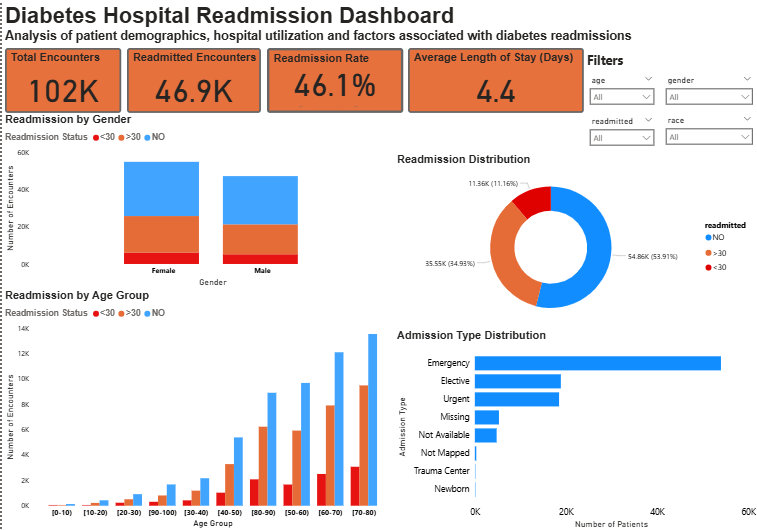

The dashboard page shown, as its layout file describes it:
{"tool":"powerbi","page":{"name":"Overview","canvas":[1283,900],"ordinal":0},"visuals":[{"type":"textbox","box":[0,0,1255.9,81.4],"z":0},{"type":"card","title":"Total Encounters","fields":{"Values":["Diabetes_readmission_clean.Total Patients"]},"box":[5.1,81.4,196.6,110.2],"z":1000},{"type":"card","title":"Average Length of Stay (Days)","fields":{"Values":["Diabetes_readmission_clean.Average Hospital Stay"]},"box":[688.1,81.4,298.3,110.2],"z":2000},{"type":"card","title":"Readmission Rate","fields":{"Values":["AdmissionSourceLookup.Readmission Rate"]},"box":[449.2,81.4,230.5,110.2],"z":3000},{"type":"card","title":"Readmitted Encounters","fields":{"Values":["Diabetes_readmission_clean.Readmitted Patients"]},"box":[211.9,81.4,227.1,110.2],"z":4000},{"type":"donutChart","title":"Readmission Distribution","fields":{"Category":["Diabetes_readmission_clean.readmitted"],"Y":["CountNonNull(Diabetes_readmission_clean.encounter_id)"]},"box":[664.3,258.6,618.6,298.6],"z":5000},{"type":"clusteredColumnChart","title":"Readmission by Age Group","fields":{"Category":["Diabetes_readmission_clean.age"],"Series":["Diabetes_readmission_clean.readmitted"],"Y":["Count(Diabetes_readmission_clean.encounter_id)"]},"box":[0,490,664.3,410],"z":6000},{"type":"columnChart","title":"Readmission by Gender","fields":{"Y":["Count(Diabetes_readmission_clean.encounter_id)"],"Series":["Diabetes_readmission_clean.readmitted"],"Category":["Diabetes_readmission_clean.gender"]},"box":[0,191.4,664.3,298.6],"z":7000},{"type":"clusteredBarChart","title":"Admission Type Distribution","fields":{"Category":["AdmissionTypeLookup.Admission Type"],"Y":["CountNonNull(Diabetes_readmission_clean.encounter_id)"]},"box":[664.3,557.1,618.6,342.9],"z":9000},{"type":"slicer","fields":{"Values":["Diabetes_readmission_clean.gender"]},"box":[1115.7,122.9,167.1,67.1],"z":10000},{"type":"slicer","fields":{"Values":["Diabetes_readmission_clean.age"]},"box":[987.1,122.9,128.6,68.6],"z":11000},{"type":"slicer","fields":{"Values":["Diabetes_readmission_clean.race"]},"box":[1115.7,190,167.1,68.6],"z":12000},{"type":"slicer","fields":{"Values":["Diabetes_readmission_clean.readmitted"]},"box":[987.1,191.4,128.6,67.1],"z":13000},{"type":"textbox","box":[987.1,81.4,295.7,41.4],"z":14000}]}

Visuals, with their boxes in screenshot pixels (x1, y1, x2, y2), scaled from the page's 1283x900 canvas onto the 757x530 screenshot:
textbox: (left=0, top=0, right=741, bottom=48)
"Total Encounters" card: (left=3, top=48, right=119, bottom=113)
"Average Length of Stay (Days)" card: (left=406, top=48, right=582, bottom=113)
"Readmission Rate" card: (left=265, top=48, right=401, bottom=113)
"Readmitted Encounters" card: (left=125, top=48, right=259, bottom=113)
"Readmission Distribution" donutChart: (left=392, top=152, right=756, bottom=328)
"Readmission by Age Group" clusteredColumnChart: (left=0, top=289, right=392, bottom=529)
"Readmission by Gender" columnChart: (left=0, top=113, right=392, bottom=289)
"Admission Type Distribution" clusteredBarChart: (left=392, top=328, right=756, bottom=529)
slicer - Diabetes_readmission_clean.gender: (left=658, top=72, right=756, bottom=112)
slicer - Diabetes_readmission_clean.age: (left=582, top=72, right=658, bottom=113)
slicer - Diabetes_readmission_clean.race: (left=658, top=112, right=756, bottom=152)
slicer - Diabetes_readmission_clean.readmitted: (left=582, top=113, right=658, bottom=152)
textbox: (left=582, top=48, right=756, bottom=72)
